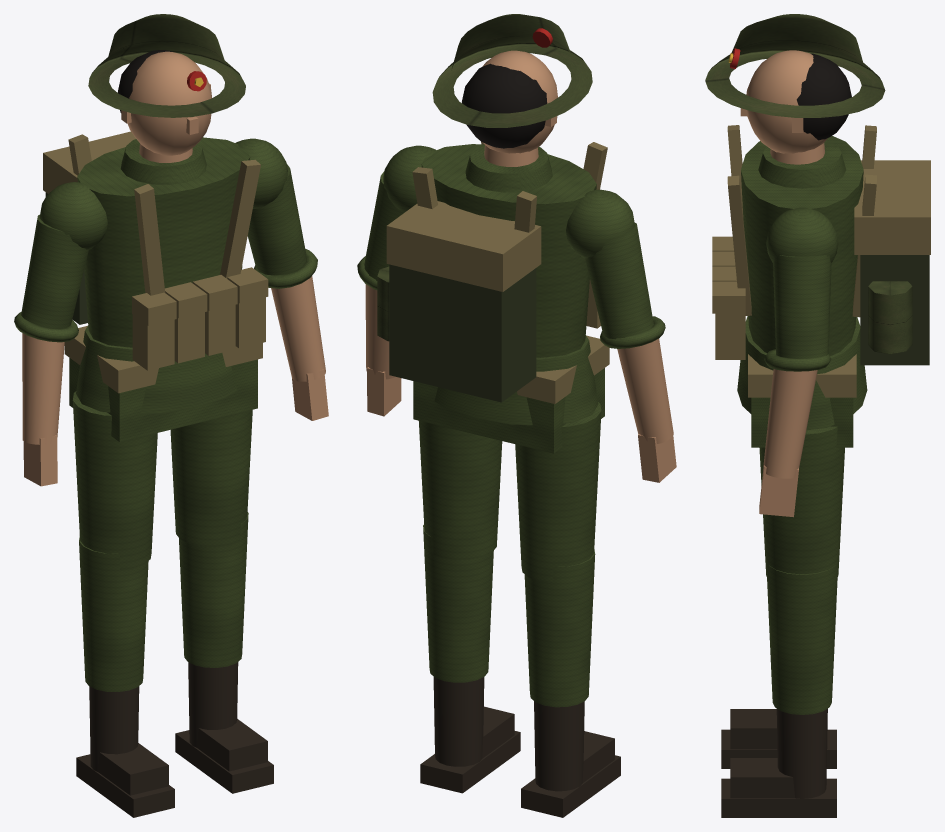
File: pavn_infantry_lod0.glb
3 views of the same model, side by side, from view 1: azimuth 30°, elevation 25°; view 2: azimuth 150°, elevation 25°; view 3: azimuth 270°, elevation 25° (orthographic).
Visible parts, largest first — view 1: PAVN_Infantry; view 2: PAVN_Infantry; view 3: PAVN_Infantry.
Boxes of the visible parts, x1,y1,x2,y2 form: PAVN_Infantry: (14,14,328,817); PAVN_Infantry: (357,14,676,817); PAVN_Infantry: (705,14,930,817).
Size of the model in its own units: 0.7554 by 1.81 by 0.4873.
9 materials, 2 textured.
